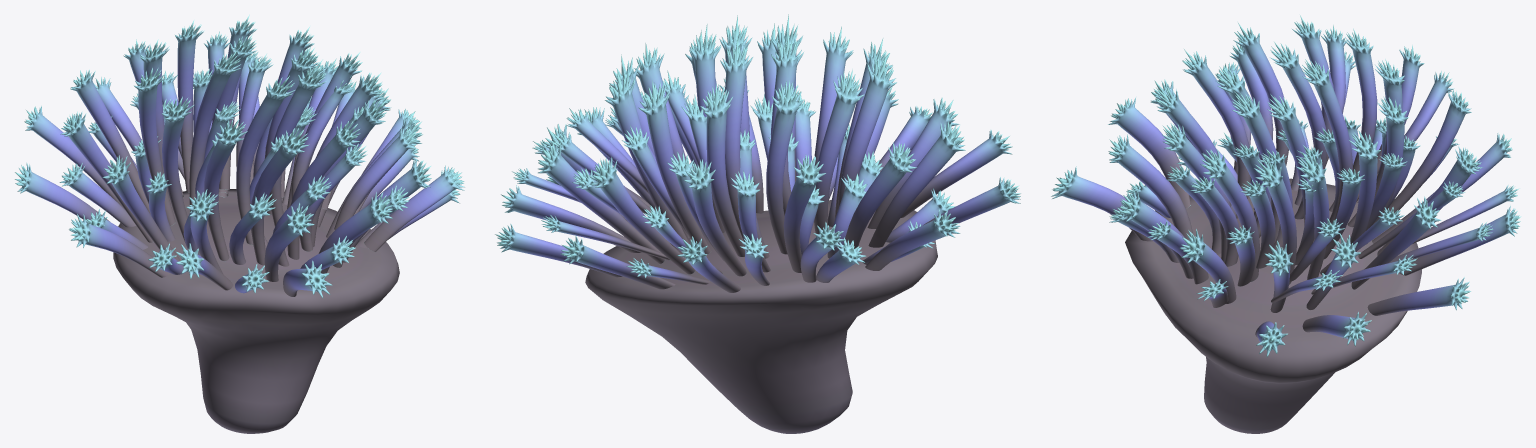
File: haicao_2.FBX
3 renders of one model, left to right at view 1: azimuth 30°, elevation 25°; view 2: azimuth 150°, elevation 25°; view 3: azimuth 270°, elevation 25°, orthographic. The views are drawn at different scales.
Visible parts, largest first — view 1: Object002; view 2: Object002; view 3: Object002.
Boxes of the visible parts, box(x1,y1,x2,y2) form: Object002: box(15, 14, 464, 433); Object002: box(495, 14, 1020, 433); Object002: box(1051, 15, 1521, 433).
Size of the model in its own units: 1574 by 1367 by 1529.
Materials: 1 (1 with a texture image).
